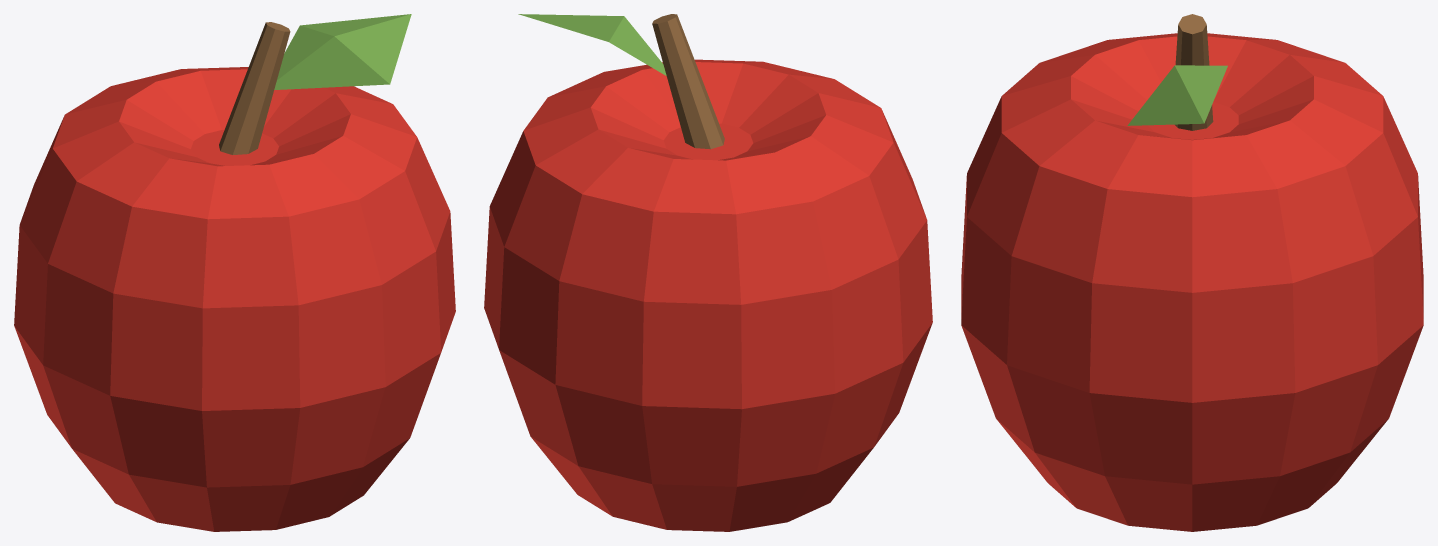
File: apple.glb
The picture shows the model from 3 angles, left to right: view 1: azimuth 30°, elevation 25°; view 2: azimuth 150°, elevation 25°; view 3: azimuth 270°, elevation 25°; orthographic projection. The views are drawn at different scales.
Visible parts, largest first — view 1: apple, leaf, Cone; view 2: apple, Cone, leaf; view 3: apple, leaf, Cone.
Part boxes in pixels (bbox=[...]): apple: bbox=[14, 67, 455, 531]; leaf: bbox=[274, 14, 411, 89]; Cone: bbox=[219, 22, 290, 154]; apple: bbox=[484, 59, 932, 531]; Cone: bbox=[652, 14, 724, 149]; leaf: bbox=[518, 14, 666, 75]; apple: bbox=[961, 33, 1423, 531]; leaf: bbox=[1127, 65, 1227, 125]; Cone: bbox=[1175, 14, 1213, 130].
Size of the model in its own units: 0.08 by 0.0878 by 0.078.
